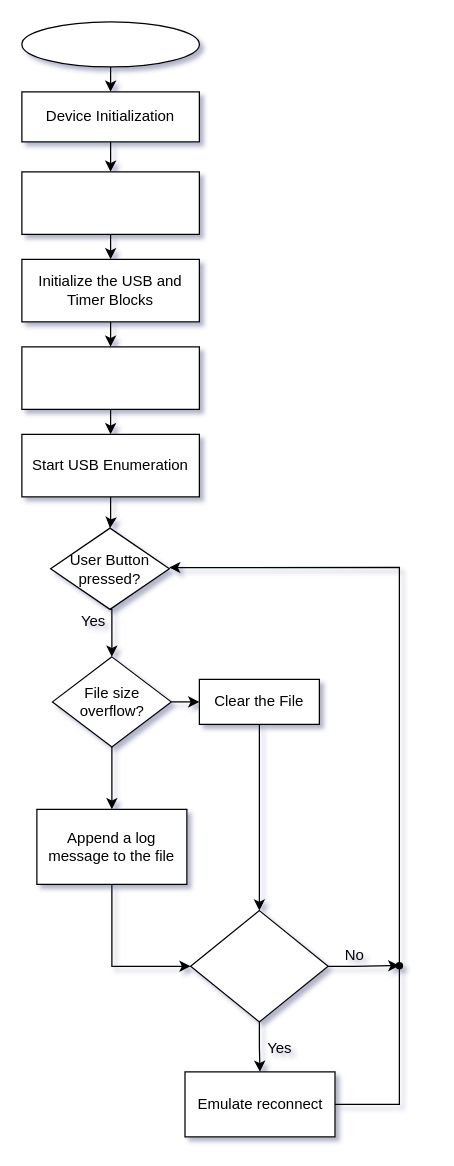
Some shapes in this 454 by 1166 pixel diagram are drawn without their labels. Here are the shapes that lost their labels. From the top down, the box of each, then its label:
(21, 21, 199, 67): Start
(21, 171, 199, 234): Configure and register user button Interrupt
(21, 346, 199, 409): Initialize the File System on SRAM
(189, 909, 328, 1022): Button press multiples of 5?
